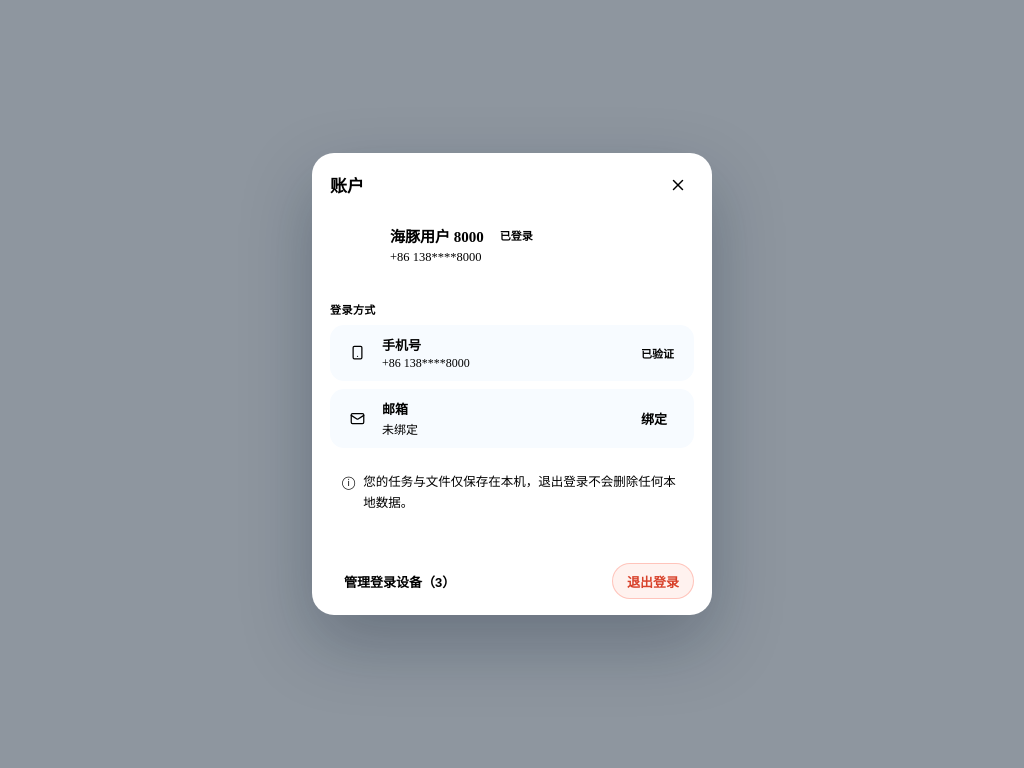
Test: 屏 C1 → C2：设备管理 › 移除一台后列表少一行
This screenshot has width=1024, height=768.
Check: the text "已登录" is shown, box [500,230,533,242]
Step 1. Click the button "管理登录设备（3）" → (400, 581), box [330,563,469,599]
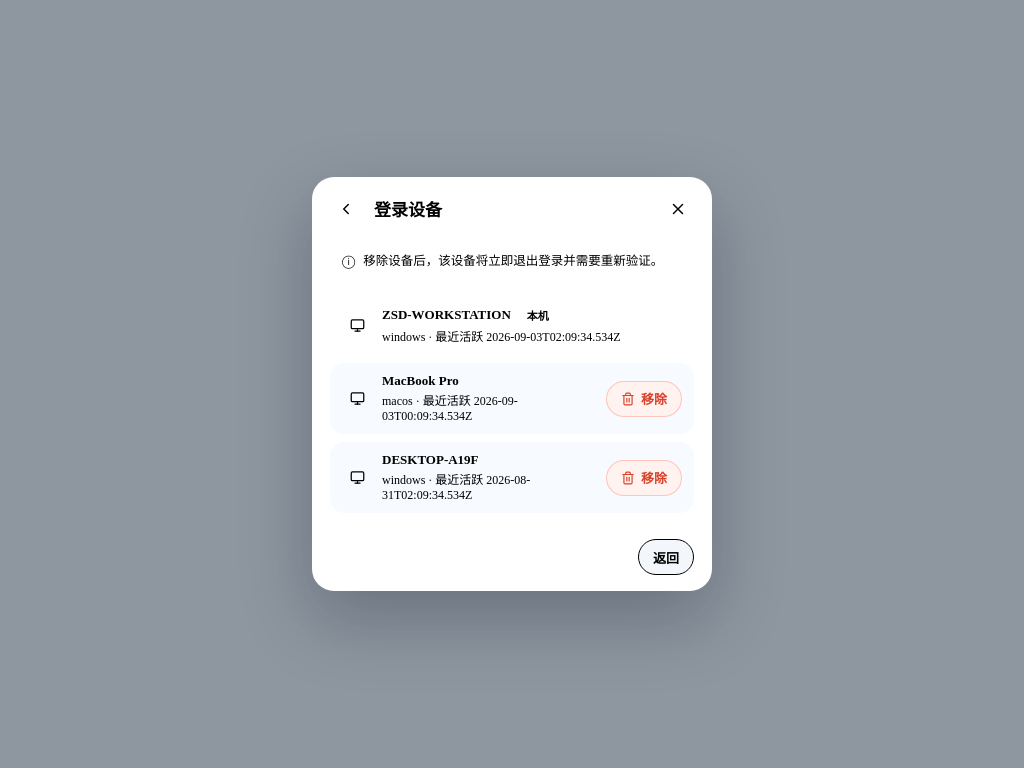
Check: the text "移除设备后，该设备将立即退出登录并需要重新验证。" is shown, box [363,251,663,271]
Step 2. Click the button with aria-label "移除设备" → (644, 399), box [606,381,682,417]
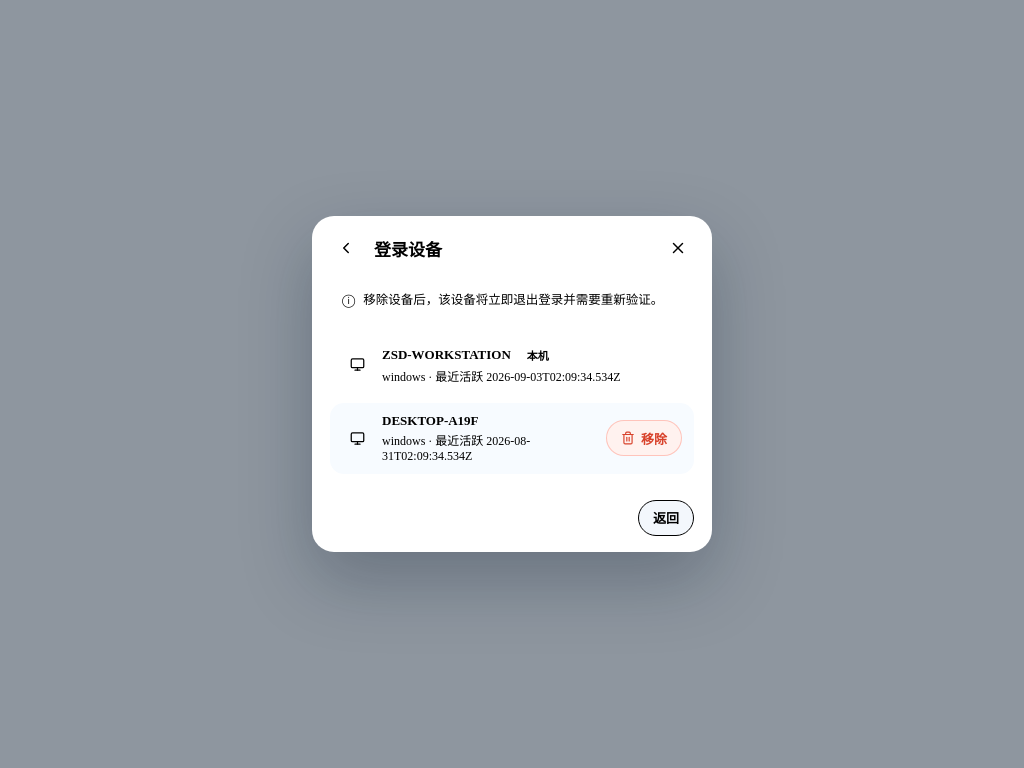
Check: the number of buttons named "移除设备" is 1, box [606,420,682,456]
